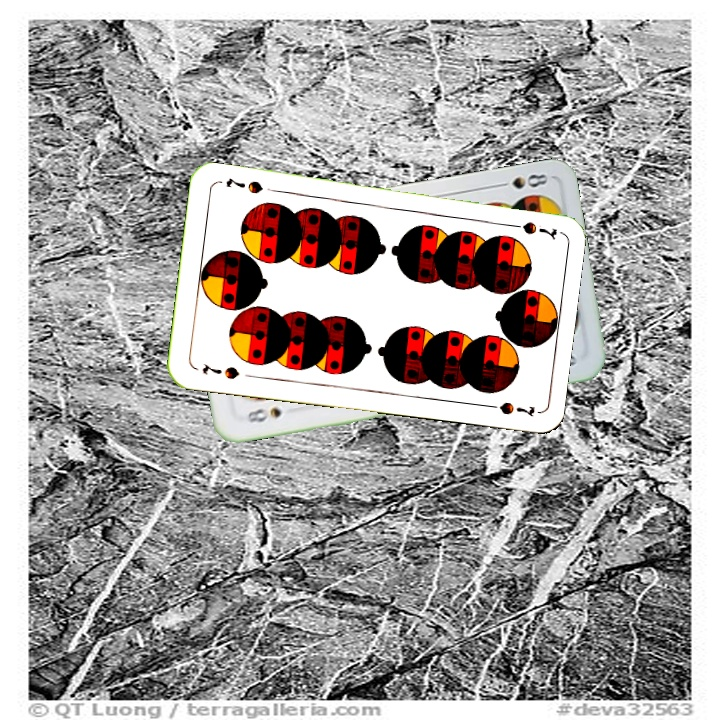S7: (501, 218, 559, 239), (198, 360, 242, 382)
S8: (491, 170, 550, 192), (243, 403, 284, 425)
